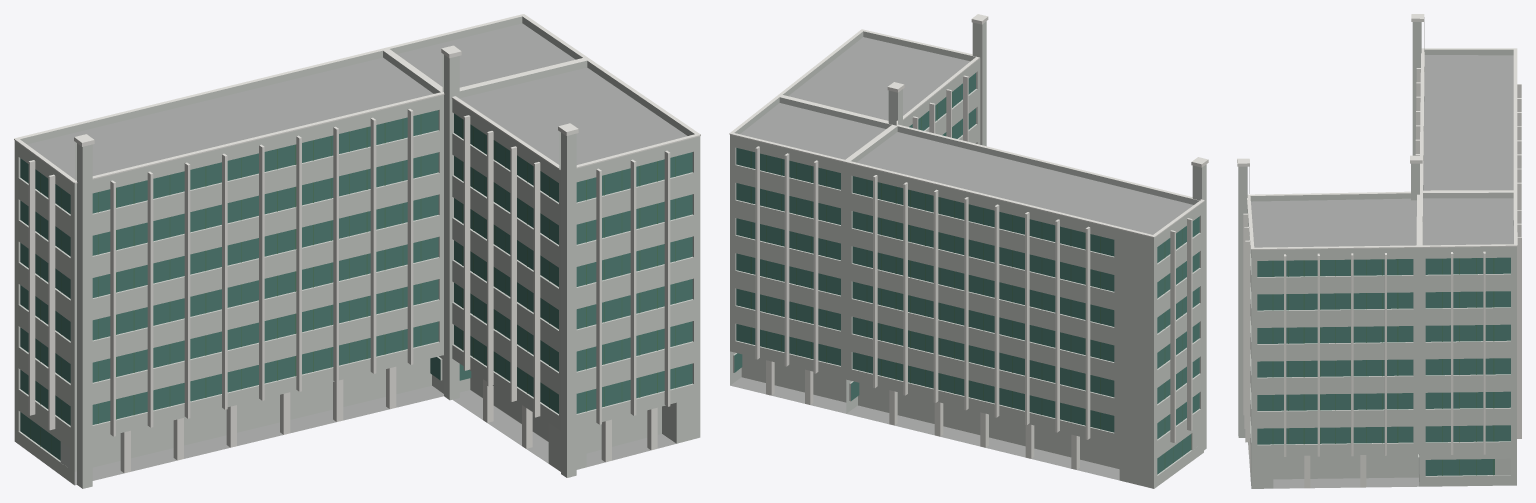
The picture shows the model from 3 angles, left to right: view 1: azimuth 30°, elevation 25°; view 2: azimuth 150°, elevation 25°; view 3: azimuth 270°, elevation 25°; orthographic projection. The views are drawn at different scales.
Parts seen in each view (by area): view 1: humanitiesB__wall, humanitiesB__glass, humanitiesB__roof, humanitiesB__trim, humanitiesB__parapet, humanitiesB__frame, humanitiesB__column; view 2: humanitiesB__wall, humanitiesB__glass, humanitiesB__roof, humanitiesB__trim, humanitiesB__parapet, humanitiesB__frame, humanitiesB__column; view 3: humanitiesB__wall, humanitiesB__roof, humanitiesB__glass, humanitiesB__trim, humanitiesB__parapet, humanitiesB__frame, humanitiesB__column.
Boxes of the visible parts, bbox=[...] form: humanitiesB__wall: bbox=[14, 54, 700, 488]; humanitiesB__glass: bbox=[20, 110, 692, 460]; humanitiesB__roof: bbox=[27, 23, 687, 485]; humanitiesB__trim: bbox=[14, 14, 700, 436]; humanitiesB__parapet: bbox=[14, 16, 700, 189]; humanitiesB__frame: bbox=[30, 114, 675, 453]; humanitiesB__column: bbox=[120, 366, 657, 473]; humanitiesB__wall: bbox=[730, 21, 1206, 488]; humanitiesB__glass: bbox=[734, 73, 1199, 474]; humanitiesB__roof: bbox=[730, 37, 1193, 480]; humanitiesB__trim: bbox=[729, 14, 1208, 442]; humanitiesB__parapet: bbox=[730, 31, 1203, 242]; humanitiesB__frame: bbox=[750, 85, 1191, 469]; humanitiesB__column: bbox=[766, 360, 1079, 469]; humanitiesB__wall: bbox=[1238, 20, 1516, 488]; humanitiesB__roof: bbox=[1248, 55, 1513, 488]; humanitiesB__glass: bbox=[1257, 257, 1510, 475]; humanitiesB__trim: bbox=[1237, 14, 1521, 456]; humanitiesB__parapet: bbox=[1250, 49, 1516, 254]; humanitiesB__frame: bbox=[1272, 258, 1494, 475]; humanitiesB__column: bbox=[1248, 442, 1366, 488].
Bounding box in the file's own units: 48.35 × 30.35 × 28.49.
